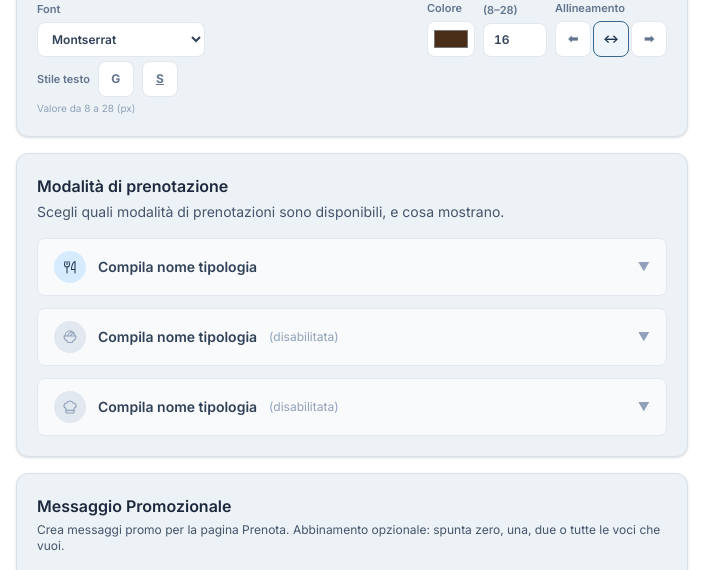
Scenario: FIX 9 §3A — compilable_category_keys toggle admin › toggle compilabile visibile per categoria quando menù personalizzabile ON
(page scrolled)
Click the button "Compila nome tipologia ▼" at (70, 267), box [38,239,666,295]
(page scrolled)
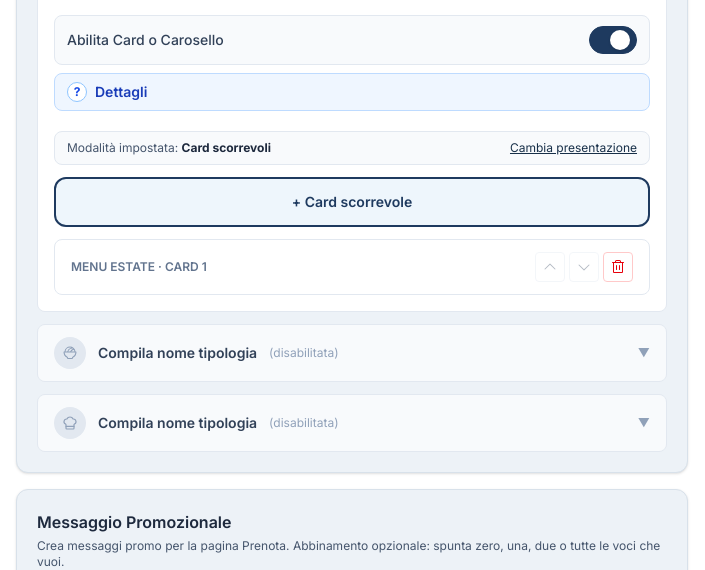
expect the text "Abilita Card o Carosello" is shown: met, box [67,30,224,50]
expect the text "Menu Estate · Card 1" is shown: met, box [71,259,207,274]
Click the button "Menu Estate · Card 1" at (139, 266), box [71,259,523,275]
(page scrolled)
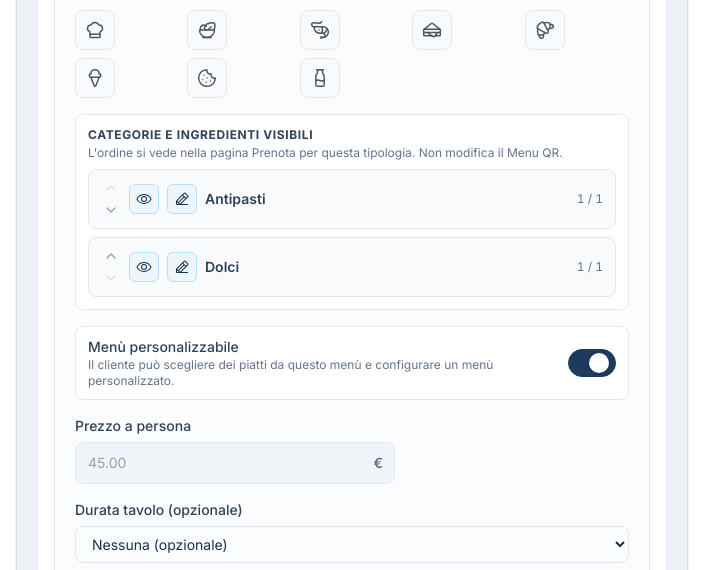
expect the text "Categorie e ingredienti visibili" is shown: met, box [88,127,313,142]
expect the button named "disabilita compilazione antipasti" is shown: met, box [167,184,197,214]
expect the button named "disabilita compilazione dolci" is shown: met, box [167,252,197,282]
